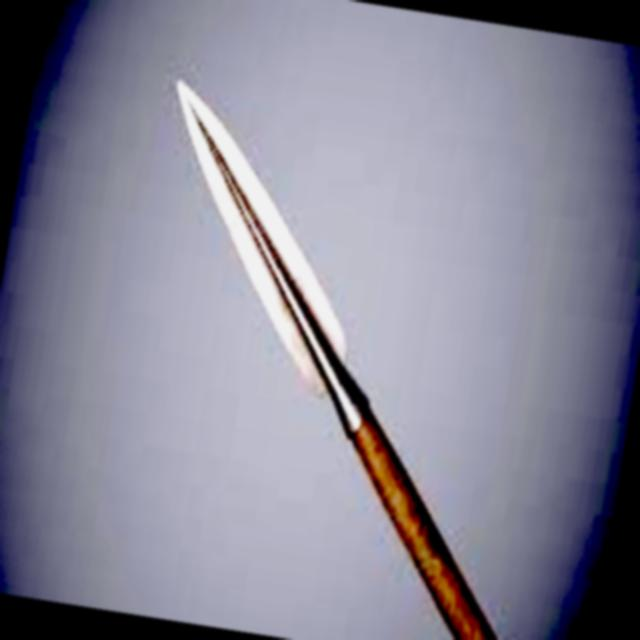spear: (88, 68, 604, 640)
